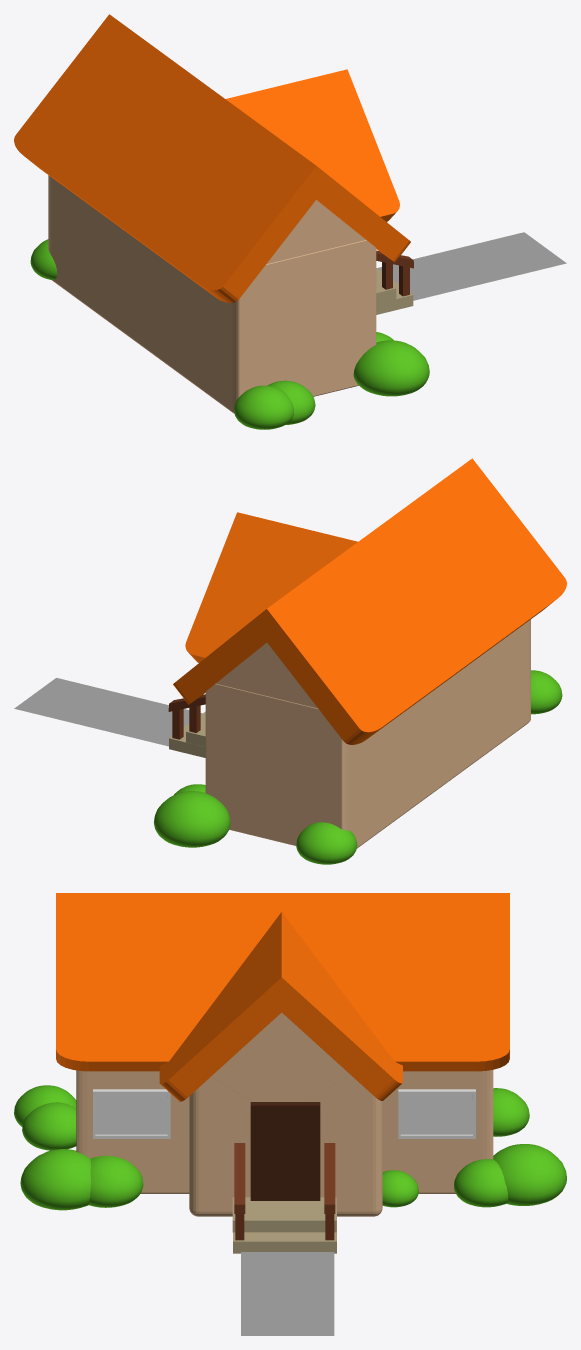
File: orangehouse.fbx
3 renders of one model, top to bottom at view 1: azimuth 30°, elevation 25°; view 2: azimuth 150°, elevation 25°; view 3: azimuth 270°, elevation 25°, orthographic. The views are drawn at different scales.
Parts seen in each view (by area): view 1: Cube.027, Cube.028, Cube.029, Plane.020, Sphere.016, Sphere.022, Sphere.021, Sphere.020, Cube.031; view 2: Cube.027, Cube.028, Cube.029, Plane.020, Sphere.018, Sphere.020, Sphere.022, Cube.031; view 3: Cube.027, Cube.026, Cube.029, Cube.028, Plane.020, Cube.033, Sphere.016, Sphere.018, Plane.016, Plane.015, Cube.032, Sphere.017 (+10 smaller).
Boxes of the visible parts, left/top/right/bottom form: Cube.027: left=14, top=14, right=410, bottom=302; Cube.028: left=48, top=175, right=376, bottom=413; Cube.029: left=225, top=69, right=399, bottom=221; Plane.020: left=377, top=232, right=566, bottom=300; Sphere.016: left=353, top=340, right=429, bottom=396; Sphere.022: left=234, top=385, right=293, bottom=429; Sphere.021: left=267, top=380, right=315, bottom=424; Sphere.020: left=30, top=239, right=57, bottom=280; Cube.031: left=376, top=268, right=413, bottom=314; Cube.027: left=173, top=458, right=566, bottom=744; Cube.028: left=205, top=619, right=530, bottom=848; Cube.029: left=185, top=512, right=357, bottom=662; Plane.020: left=14, top=678, right=202, bottom=746; Sphere.018: left=153, top=791, right=230, bottom=847; Sphere.020: left=296, top=822, right=357, bottom=864; Sphere.022: left=531, top=670, right=562, bottom=714; Cube.031: left=169, top=711, right=205, bottom=757; Cube.027: left=56, top=893, right=509, bottom=1071; Cube.026: left=189, top=1012, right=382, bottom=1216; Cube.029: left=159, top=912, right=402, bottom=1101; Cube.028: left=76, top=1070, right=493, bottom=1193; Plane.020: left=241, top=1252, right=334, bottom=1335; Cube.033: left=250, top=1102, right=320, bottom=1200; Sphere.016: left=20, top=1149, right=90, bottom=1210; Sphere.018: left=493, top=1144, right=566, bottom=1205; Plane.016: left=400, top=1094, right=472, bottom=1134; Plane.015: left=95, top=1094, right=167, bottom=1134; Cube.032: left=232, top=1197, right=336, bottom=1232; Sphere.017: left=88, top=1155, right=143, bottom=1207.
Size of the model in its own units: 1179 by 634 by 1183.
